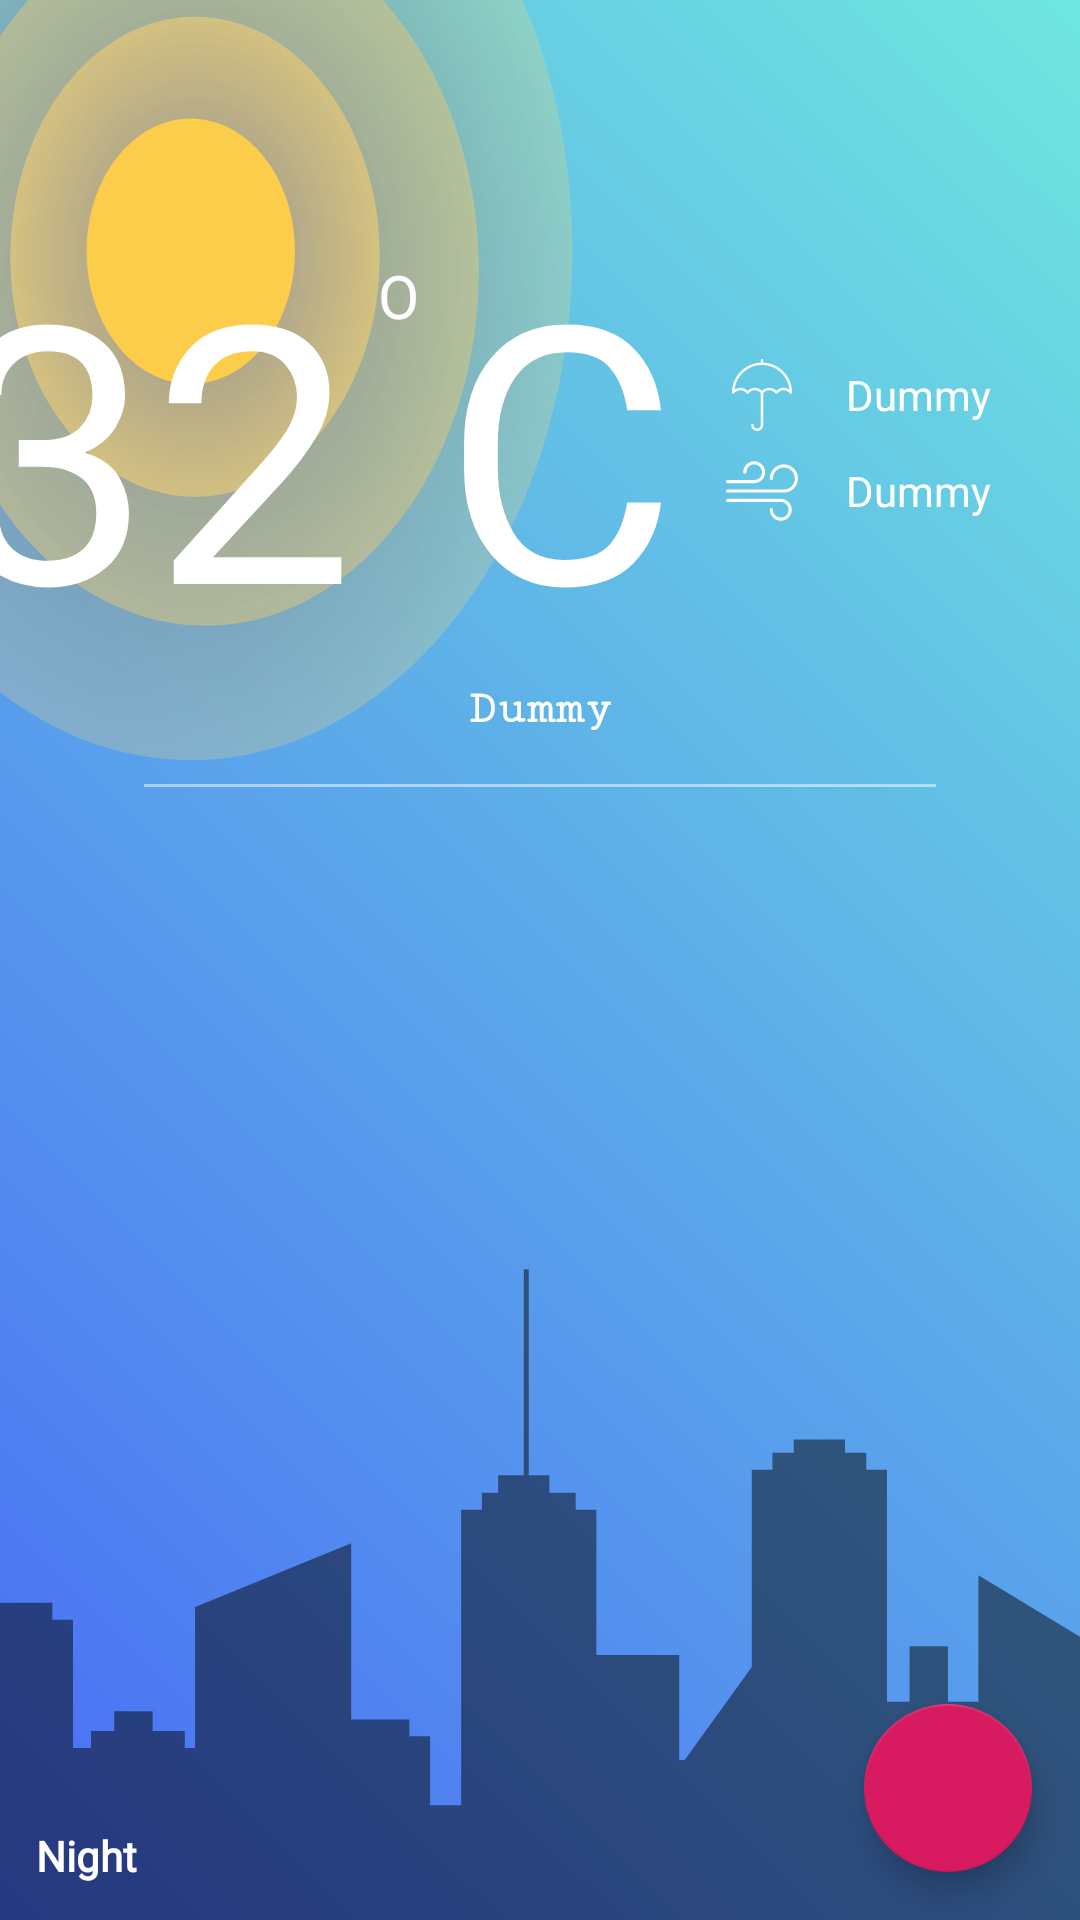

Named icons in this screenshot (1080 x 1920) and their bounding boxes, bbox(x1, y1, x2, y2):
umbrella: bbox(732, 359, 792, 431)
wind: bbox(726, 461, 798, 521)
